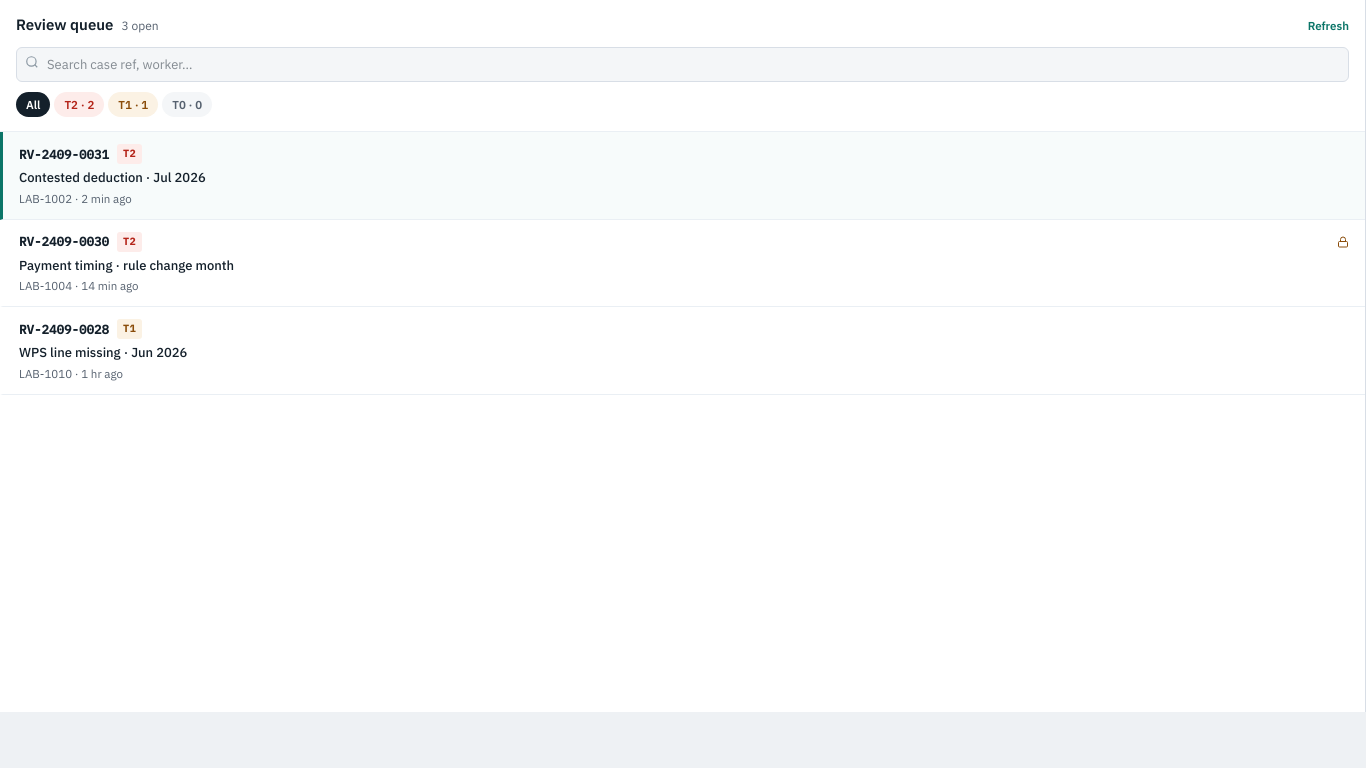
it: ReviewQueue — API integration › filters by tier using totals derived from the API payload
The width and height of the screenshot is (1366, 768).
Check: the number of list items is 3, box [0,132,1365,220]; [0,220,1365,307]; [0,307,1365,395]
Click the button "T1 · 1" at (133,105), box [108,92,158,117]
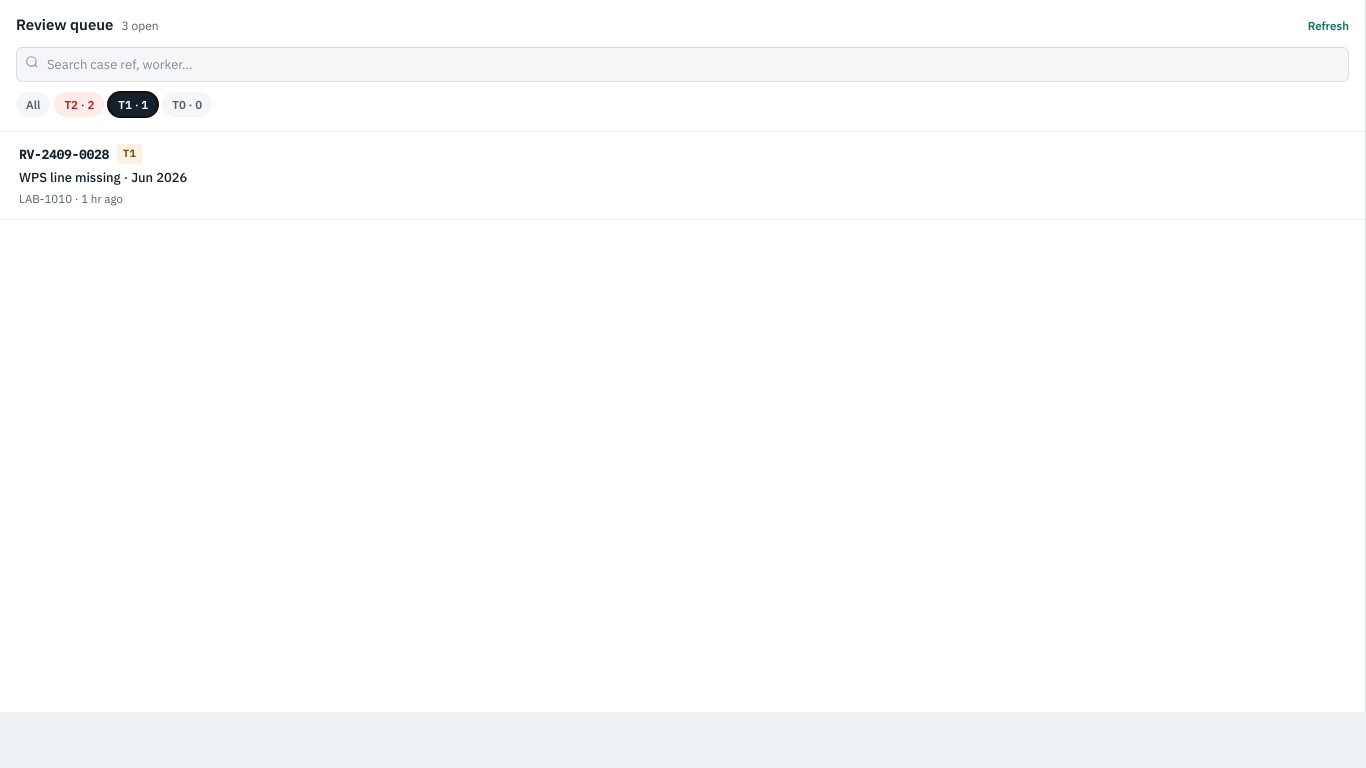
Check: the number of list items is 1, box [0,132,1365,220]
Click the button "All" at (33,105), box [16,92,50,117]
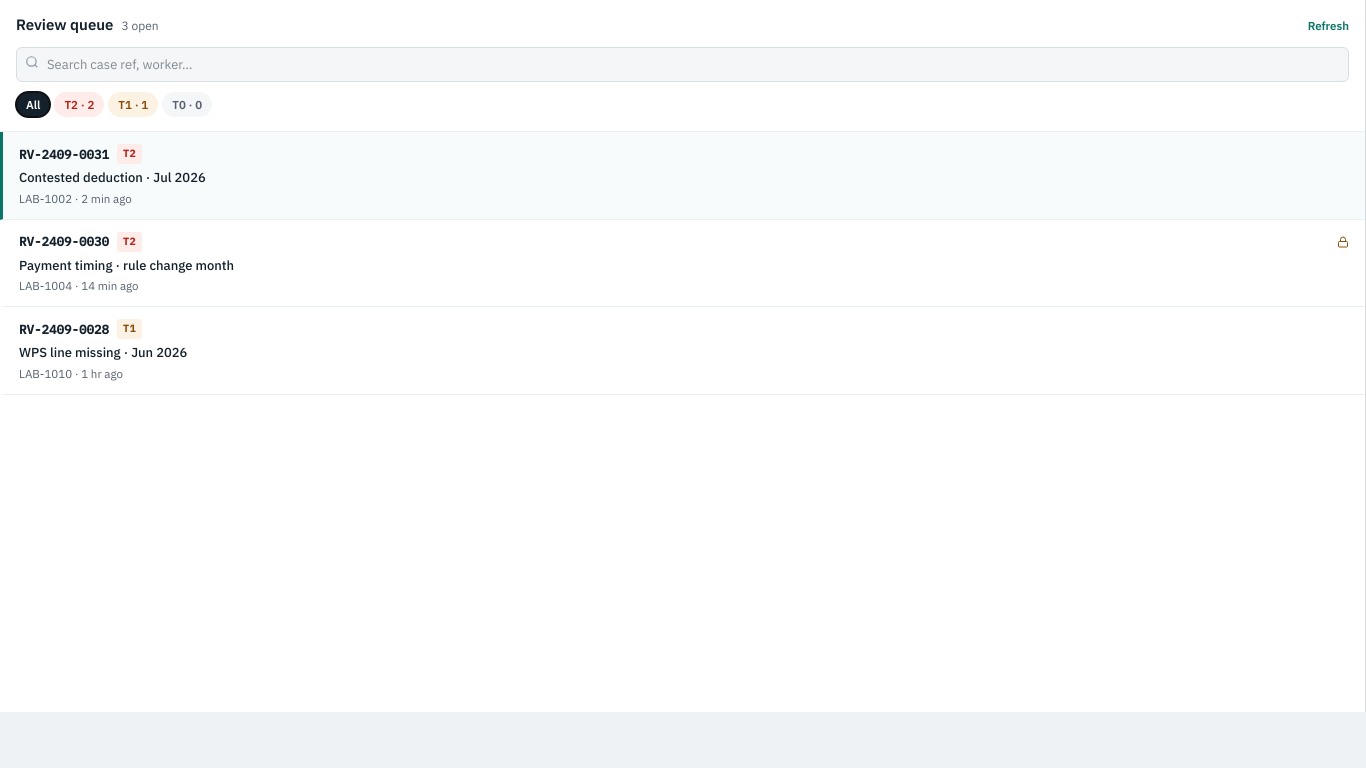
Check: the number of list items is 3, box [0,132,1365,220]; [0,220,1365,307]; [0,307,1365,395]
